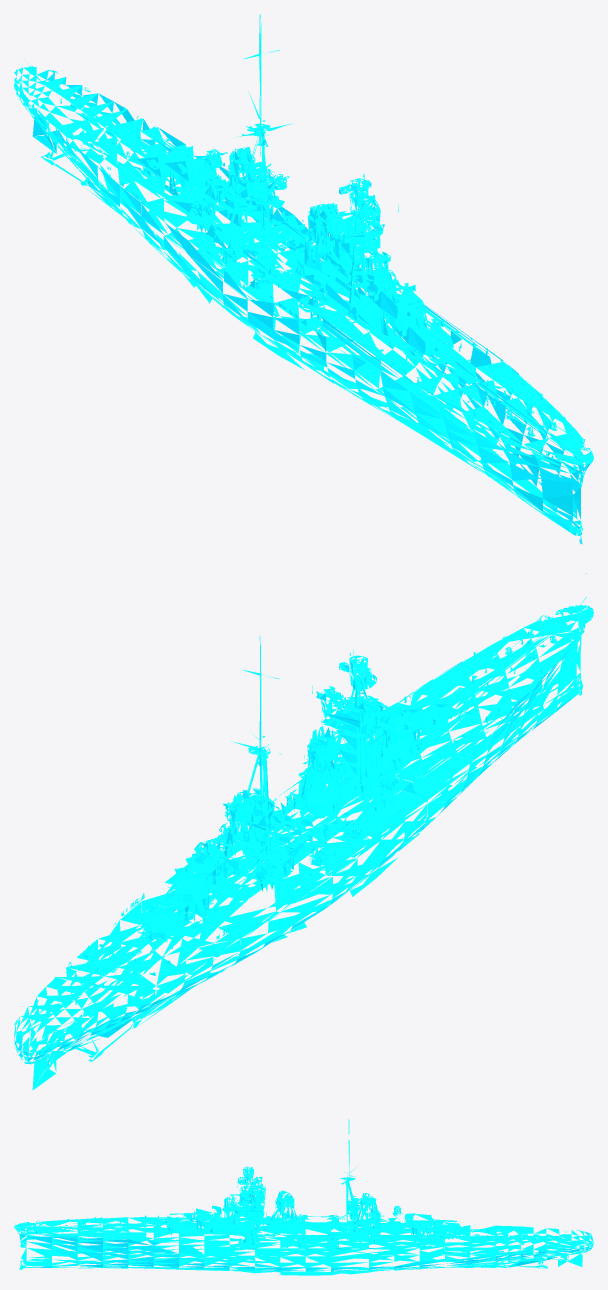
File: PISC607.glb
The picture shows the model from 3 angles, top to bottom: view 1: azimuth 30°, elevation 25°; view 2: azimuth 150°, elevation 25°; view 3: azimuth 270°, elevation 25°; orthographic projection. The views are drawn at different scales.
Parts seen in each view (by area): view 1: hull_body; view 2: hull_body; view 3: hull_body.
Part boxes in pixels (box(x1,y1,x2,y2)): hull_body: box(14, 14, 593, 544); hull_body: box(14, 573, 593, 1090); hull_body: box(14, 1119, 593, 1275).
Size of the model in its own units: 1.5 by 3.5 by 12.2.
